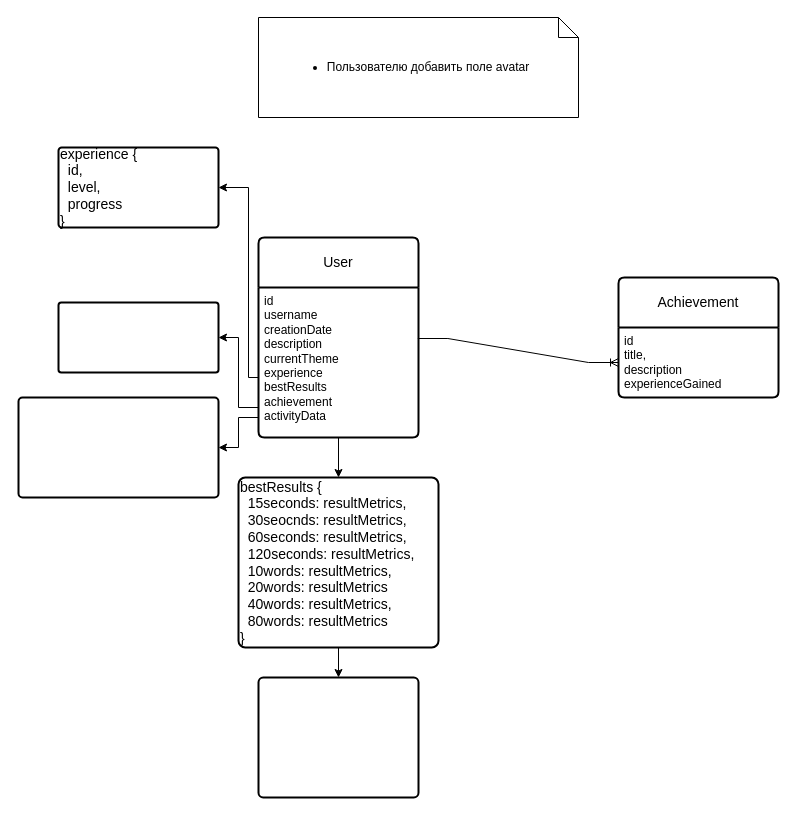
Image size: 796x816. Some labels were removed from this diagram. Each missing label, with the box of its shape:
achievement { id, completionDate }: (57, 301, 219, 373)
activityData [ { count, date: 2022-06-02 } ]: (17, 396, 219, 498)
resultMetrics { wpm, rawWpm, accurancy, consistency, date }: (257, 676, 419, 798)
